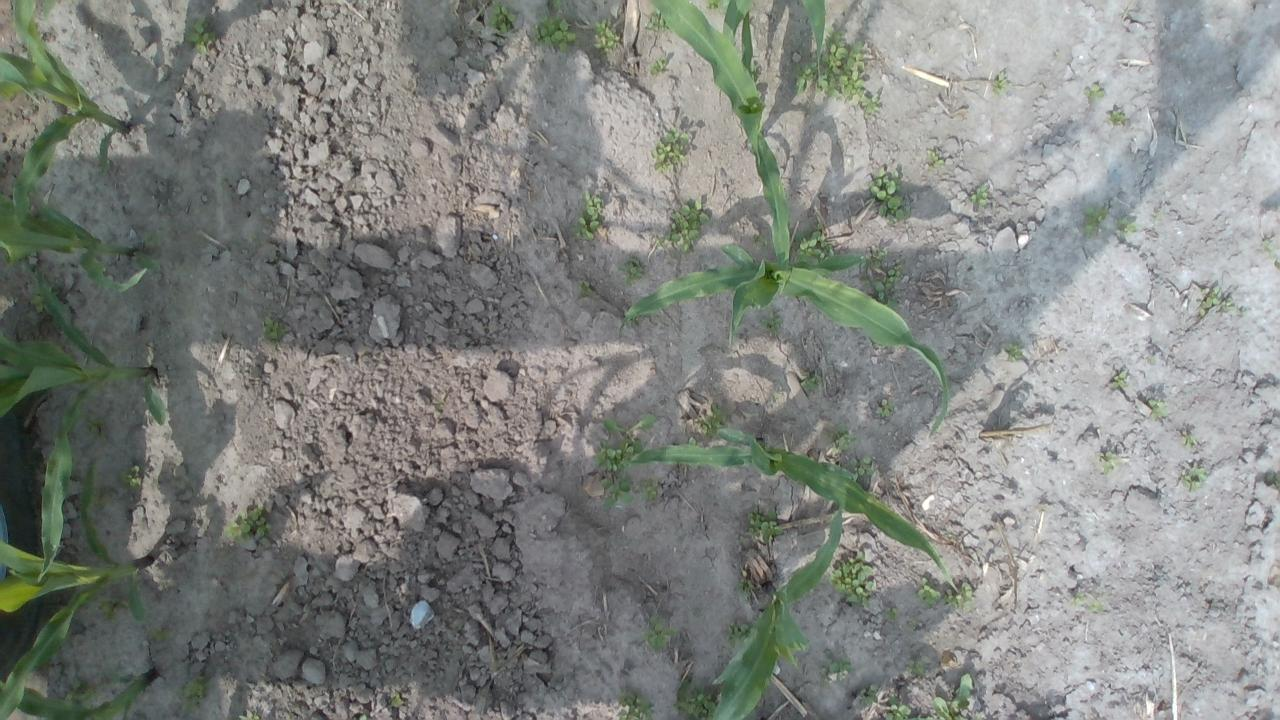Maize: (616, 115, 950, 441), (598, 411, 968, 605), (0, 266, 171, 584), (1, 452, 158, 718), (0, 0, 136, 238), (708, 487, 844, 720), (646, 0, 762, 162), (6, 191, 163, 294), (720, 0, 830, 100), (1, 662, 166, 718)
Weeds: (792, 26, 881, 112), (592, 438, 638, 510), (658, 198, 712, 253), (1077, 198, 1135, 246), (216, 505, 270, 548), (915, 578, 975, 616), (832, 555, 874, 609), (862, 245, 899, 304), (868, 169, 908, 221), (526, 12, 568, 52), (649, 130, 694, 167), (574, 190, 602, 246), (481, 0, 521, 33), (185, 10, 214, 48), (820, 652, 850, 686), (636, 474, 663, 510), (951, 673, 974, 715), (842, 452, 875, 481), (639, 614, 668, 647), (592, 20, 620, 54), (792, 232, 833, 255), (679, 684, 710, 714), (1199, 286, 1235, 310), (1181, 464, 1209, 494), (1068, 586, 1100, 612), (617, 694, 649, 720), (24, 278, 52, 307), (745, 511, 774, 536), (182, 684, 204, 714), (724, 618, 751, 642), (649, 50, 672, 77), (970, 182, 992, 208), (858, 679, 876, 710), (930, 694, 954, 717), (1003, 344, 1030, 364), (1081, 80, 1104, 103), (624, 258, 646, 282), (646, 10, 668, 34), (764, 311, 786, 335), (1106, 105, 1128, 128), (928, 148, 951, 168), (993, 69, 1012, 92), (888, 702, 911, 720), (1096, 450, 1116, 470), (259, 318, 278, 338), (831, 428, 851, 446), (126, 464, 141, 487), (1110, 370, 1128, 388), (876, 399, 894, 417), (578, 279, 592, 302), (804, 371, 819, 391), (1149, 398, 1166, 415), (910, 659, 924, 678), (1184, 433, 1196, 448)
